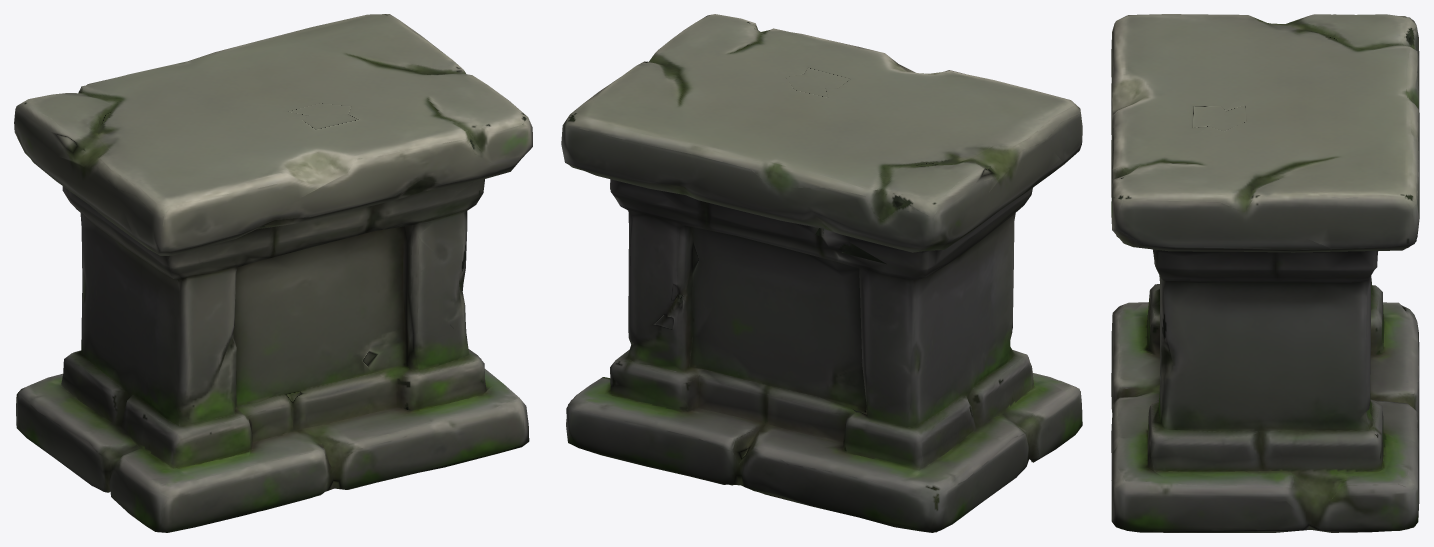
File: crypt_StoneAltar2.glb
3 renders of one model, left to right at view 1: azimuth 30°, elevation 25°; view 2: azimuth 150°, elevation 25°; view 3: azimuth 270°, elevation 25°, orthographic.
Parts seen in each view (by area): view 1: world; view 2: world; view 3: world.
Part boxes in pixels (x1,y1,x2,y2): world: (14,14,532,532); world: (561,14,1082,532); world: (1111,14,1419,532).
Bounding box in the file's own units: 1 × 0.8406 × 0.6909.
1 material, 1 textured.
